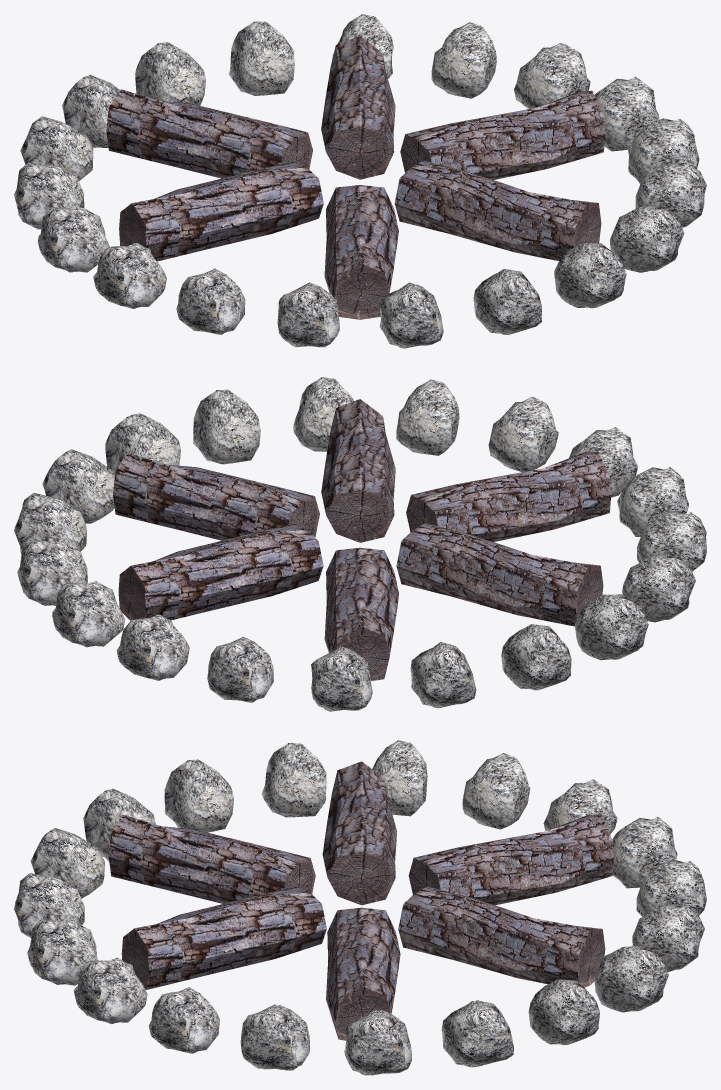
The model's file is campfire_logs.glb.
3 views of the same model, one above another, from view 1: azimuth 30°, elevation 25°; view 2: azimuth 150°, elevation 25°; view 3: azimuth 270°, elevation 25° (orthographic).
Visible parts, largest first — view 1: pCylinder7; view 2: pCylinder7; view 3: pCylinder7.
Boxes of the visible parts, x1=… form: pCylinder7: x1=14, y1=14, x2=706, y2=348; pCylinder7: x1=14, y1=377, x2=706, y2=711; pCylinder7: x1=14, y1=740, x2=706, y2=1075.
Bounding box in the file's own units: 1629 × 170 × 1627.
Materials: 3 (3 with a texture image).
